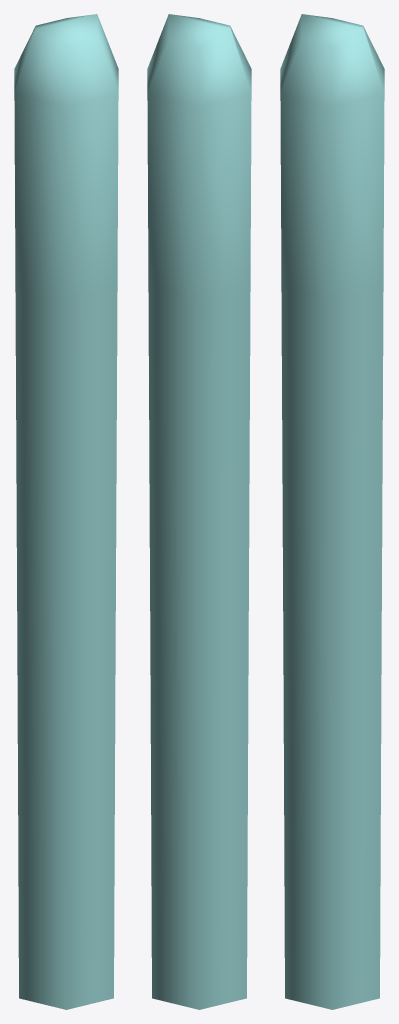
The model's file is Coral_F.obj.
The picture shows the model from 3 angles, left to right: view 1: azimuth 30°, elevation 25°; view 2: azimuth 150°, elevation 25°; view 3: azimuth 330°, elevation 25°; orthographic projection.
Parts seen in each view (by area): view 1: Coral_F; view 2: Coral_F; view 3: Coral_F.
Boxes of the visible parts, <box> form: Coral_F: <box>14,14,118,1009</box>; Coral_F: <box>147,14,251,1009</box>; Coral_F: <box>280,14,384,1009</box>.
Size of the model in its own units: 8.95 by 79.34 by 7.75.
